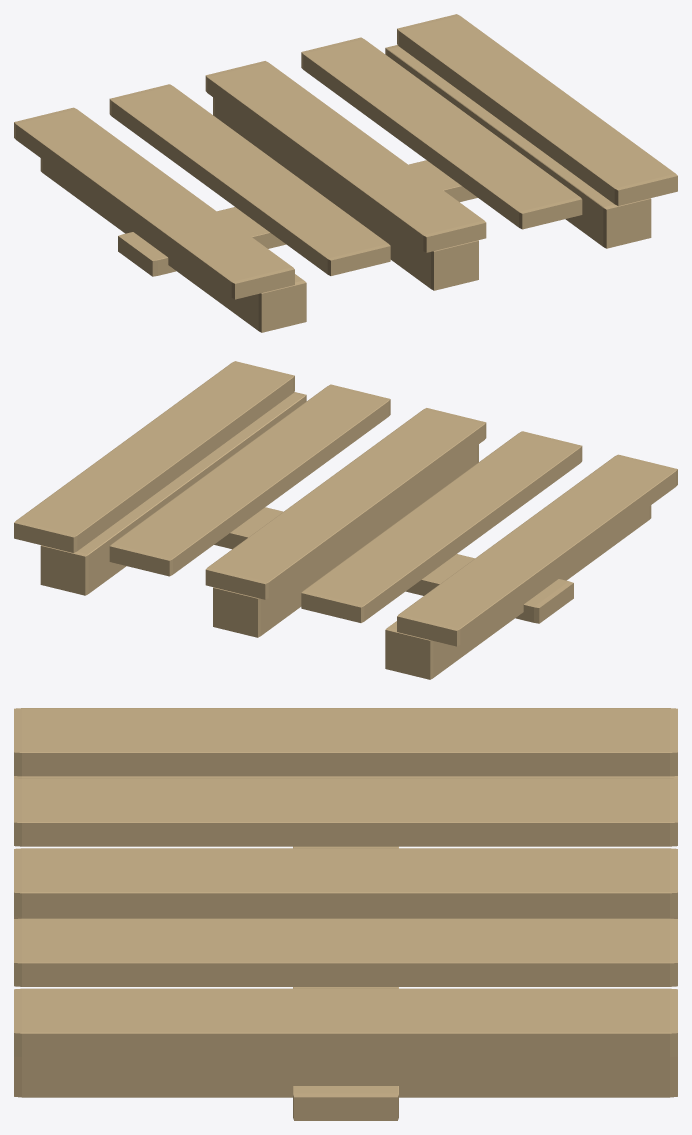
File: Pallet.glb
The picture shows the model from 3 angles, top to bottom: view 1: azimuth 30°, elevation 25°; view 2: azimuth 150°, elevation 25°; view 3: azimuth 270°, elevation 25°; orthographic projection. The views are drawn at different scales.
Visible parts, largest first — view 1: TopSlat_-0.25, TopSlat_0, TopSlat_0.25, TopSlat_-0.5, TopSlat_0.5, Block_0.45, Block_0, Block_-0.45, BottomSlat; view 2: TopSlat_-0.25, TopSlat_0, TopSlat_0.25, TopSlat_-0.5, TopSlat_0.5, Block_0.45, Block_0, Block_-0.45, BottomSlat; view 3: TopSlat_-0.25, TopSlat_0, TopSlat_-0.5, TopSlat_0.25, TopSlat_0.5, Block_0.45, BottomSlat, Block_-0.45, Block_0.
Boxes of the visible parts, <box> form: TopSlat_-0.25: <box>109,84,390,275</box>; TopSlat_0: <box>205,61,486,252</box>; TopSlat_0.25: <box>301,37,582,229</box>; TopSlat_-0.5: <box>14,107,294,299</box>; TopSlat_0.5: <box>397,14,677,205</box>; Block_0.45: <box>385,45,651,248</box>; Block_0: <box>213,97,478,290</box>; Block_-0.45: <box>40,158,306,332</box>; BottomSlat: <box>118,160,477,276</box>; TopSlat_-0.25: <box>301,431,582,622</box>; TopSlat_0: <box>205,408,486,599</box>; TopSlat_0.25: <box>109,384,390,576</box>; TopSlat_-0.5: <box>397,454,677,646</box>; TopSlat_0.5: <box>14,361,294,552</box>; Block_0.45: <box>40,392,306,595</box>; Block_0: <box>213,444,478,637</box>; Block_-0.45: <box>385,505,651,679</box>; BottomSlat: <box>214,507,573,623</box>; TopSlat_-0.25: <box>14,778,677,846</box>; TopSlat_0: <box>14,848,677,916</box>; TopSlat_-0.5: <box>14,708,677,776</box>; TopSlat_0.25: <box>14,918,677,986</box>; TopSlat_0.5: <box>14,988,677,1056</box>; Block_0.45: <box>14,1056,677,1097</box>; BottomSlat: <box>293,846,398,1120</box>; Block_-0.45: <box>14,776,677,778</box>; Block_0: <box>14,916,677,918</box>.
Bounding box in the file's own units: 1.16 × 0.16 × 1.
